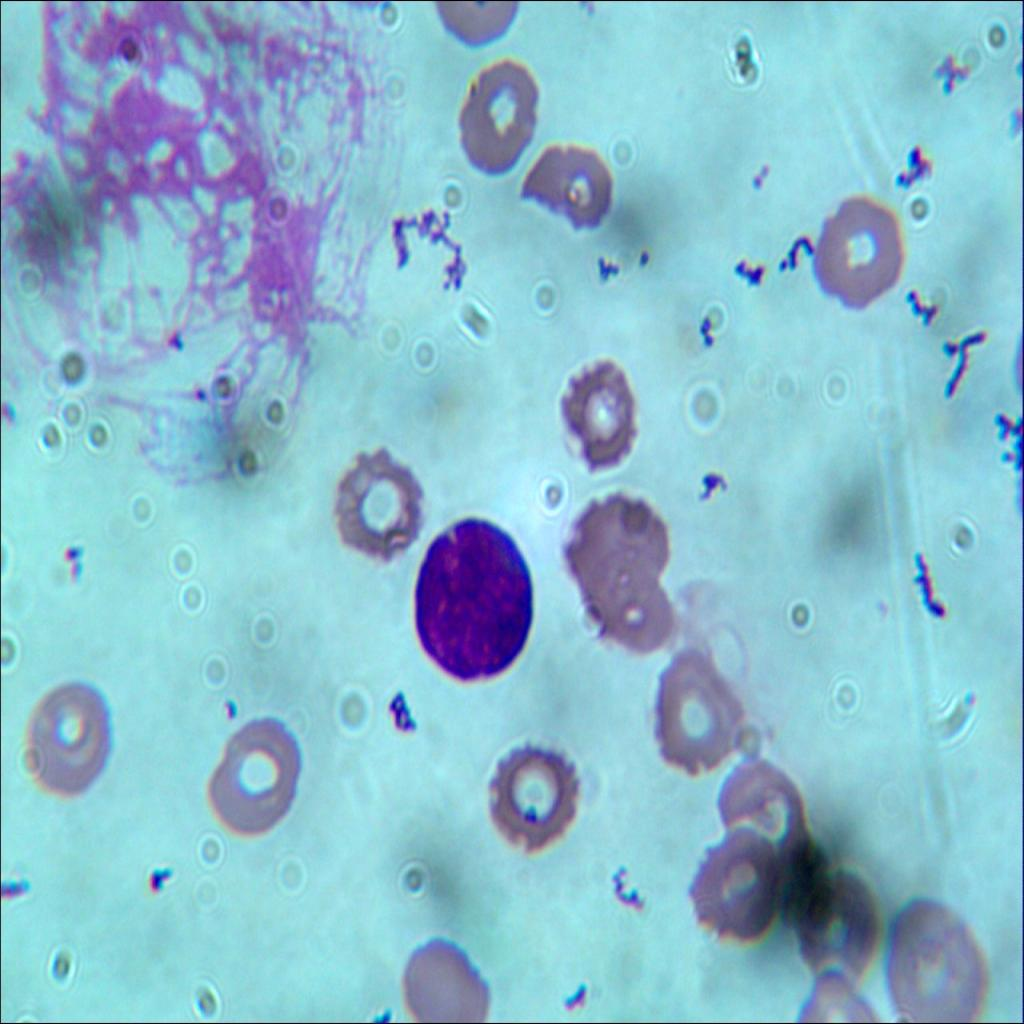Eritrosit: (560, 478, 674, 619), (812, 178, 906, 322), (888, 903, 998, 1023), (199, 719, 299, 844), (484, 730, 583, 856), (328, 447, 429, 564), (556, 354, 656, 472), (659, 654, 753, 771), (23, 678, 121, 790), (718, 737, 804, 861), (449, 59, 548, 164), (515, 136, 615, 234), (593, 544, 675, 658), (701, 823, 779, 942), (806, 868, 886, 978), (402, 931, 488, 1023)
Limfoblast: (413, 509, 541, 687)
Platelet: (54, 524, 86, 568), (138, 856, 168, 902), (158, 322, 190, 357), (630, 235, 654, 274), (190, 372, 204, 412)
